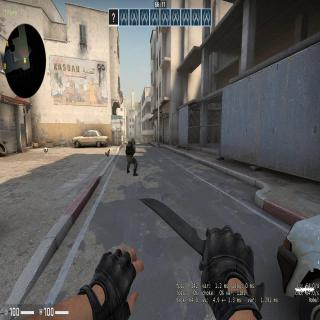CT-Body: (124, 136, 140, 170)
CT-Head: (130, 137, 136, 144)
